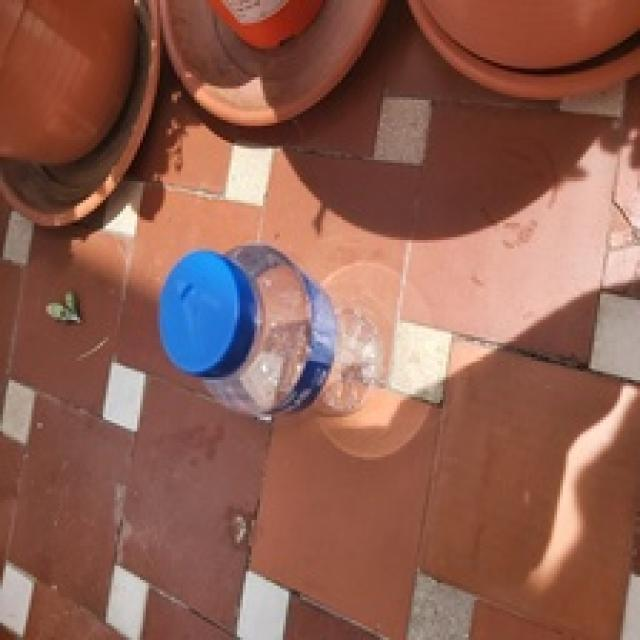Plastic: (159, 240, 381, 420)
